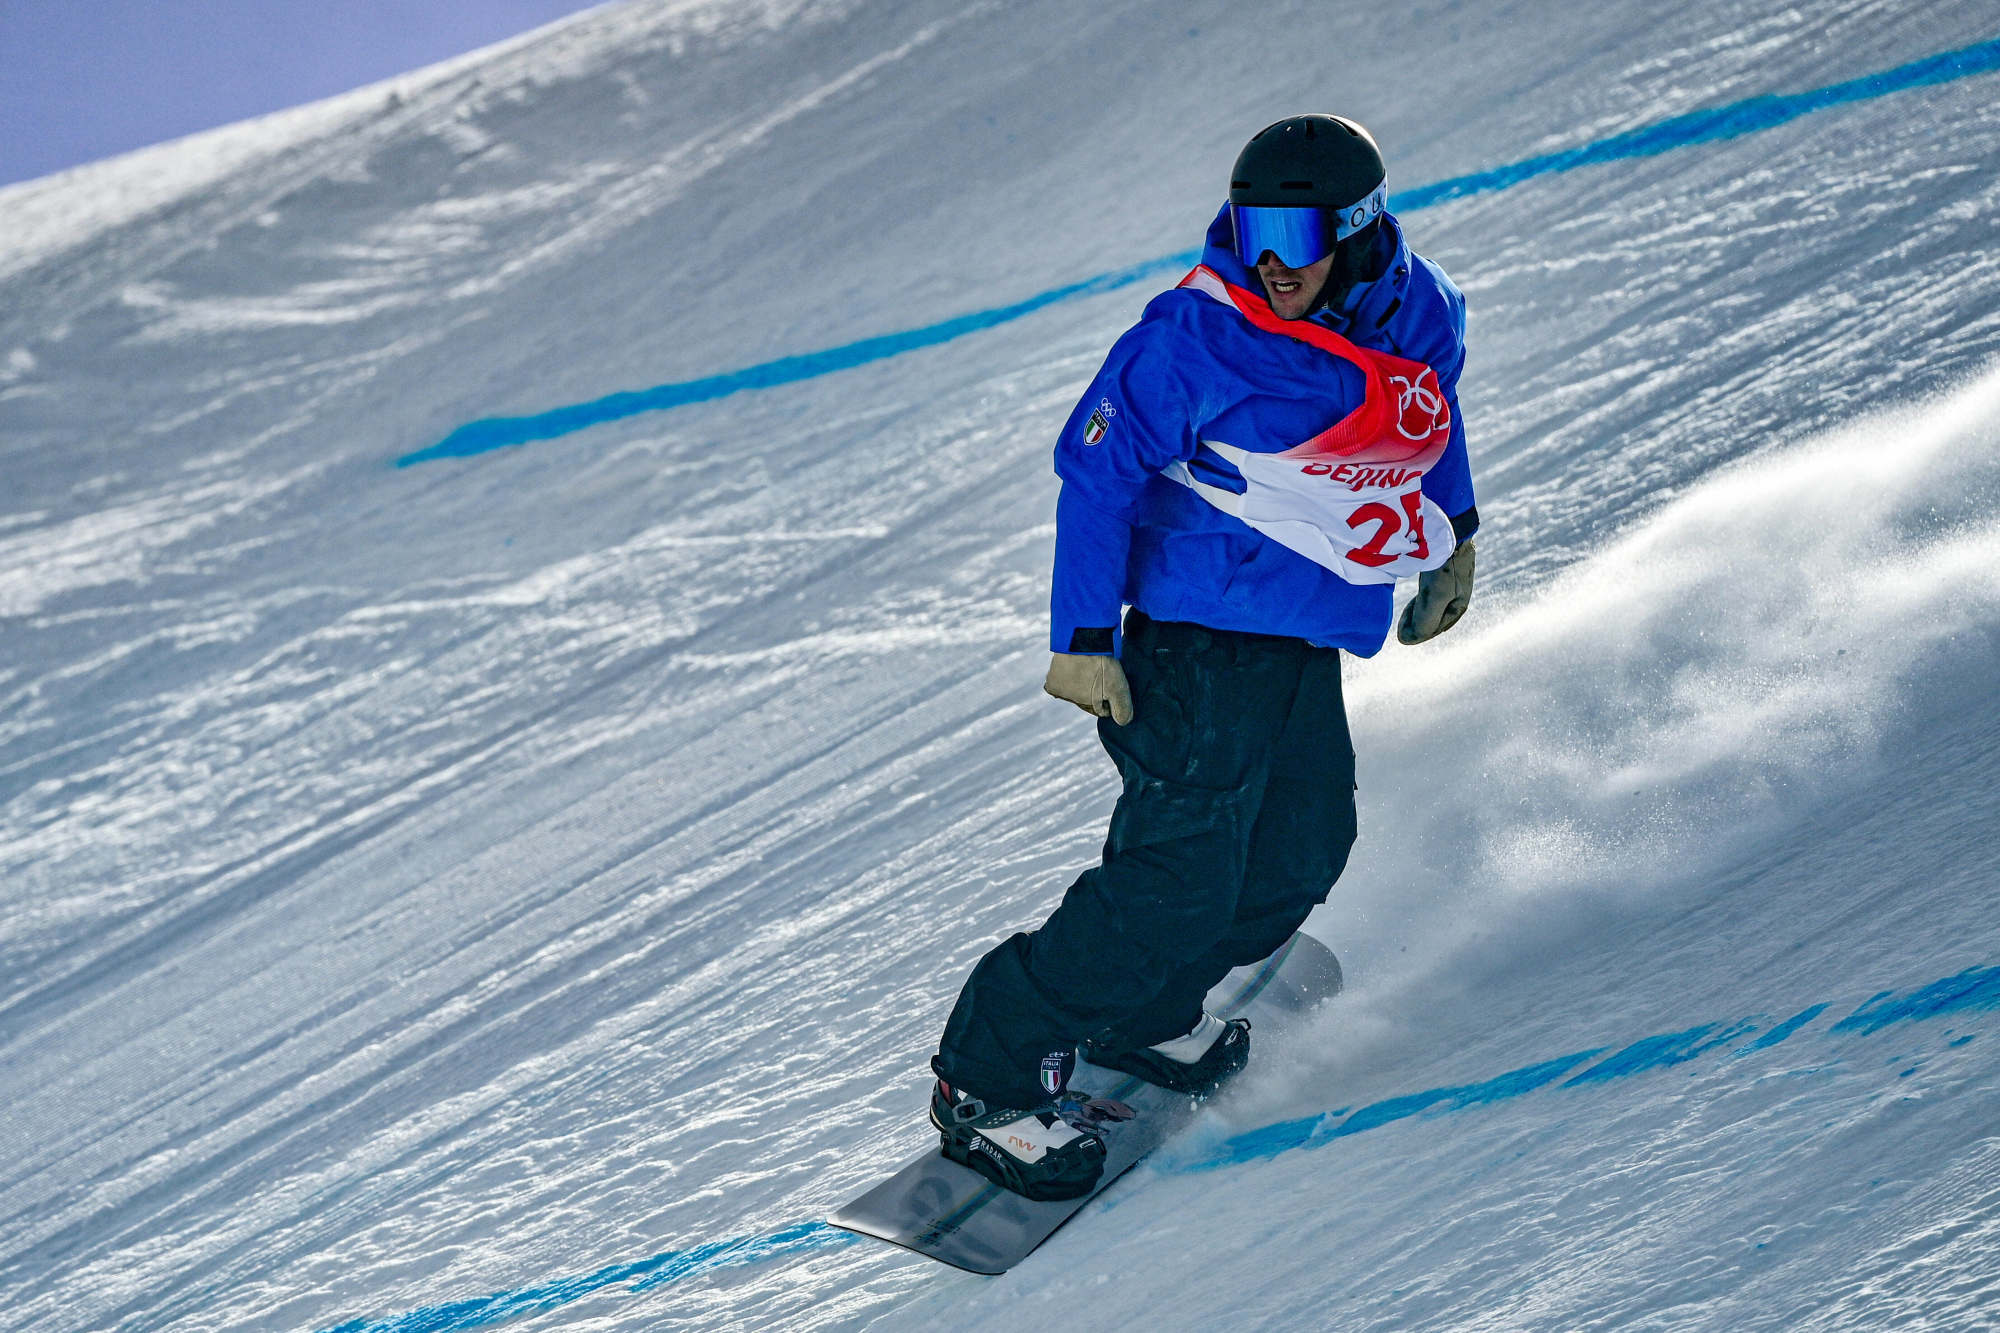snowboarder: (889, 107, 1491, 1224)
